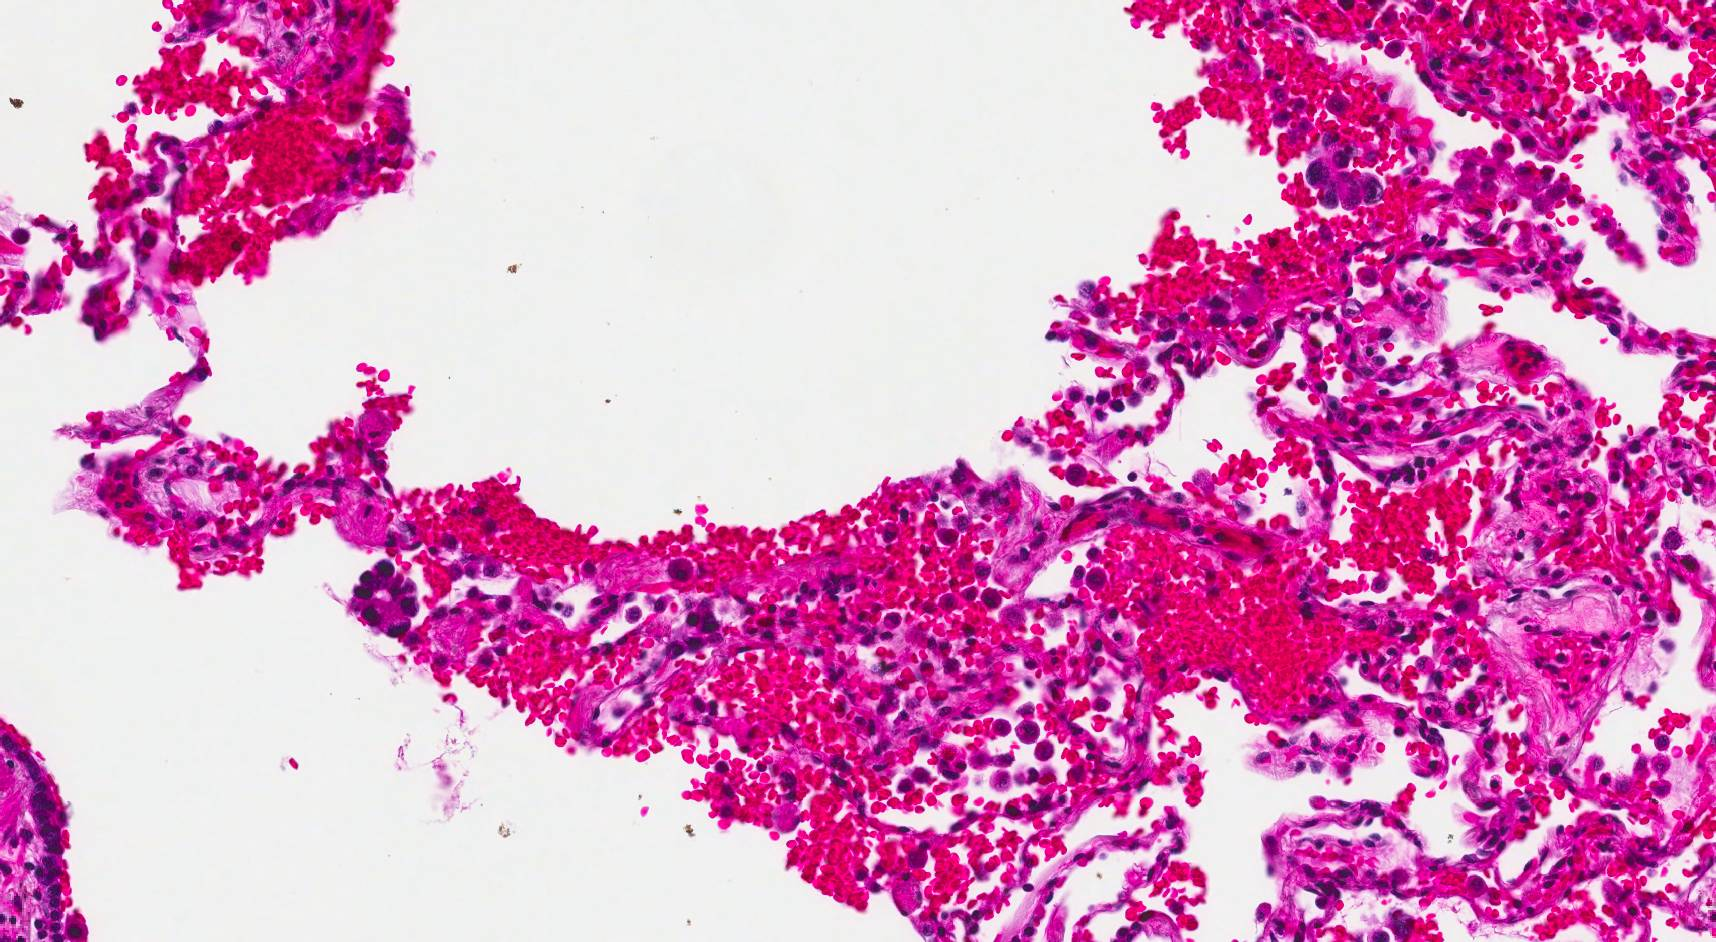stas: (347, 559, 420, 640), (1303, 154, 1388, 209)
